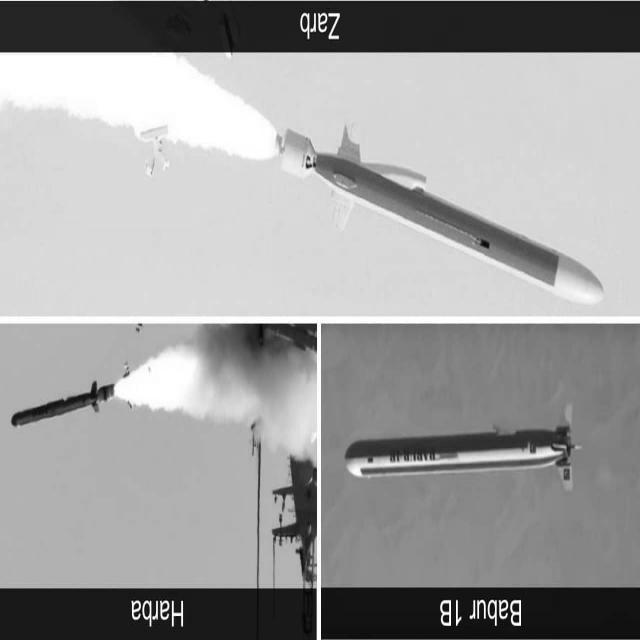missile: (270, 117, 611, 309), (339, 411, 584, 496), (9, 380, 124, 441)
